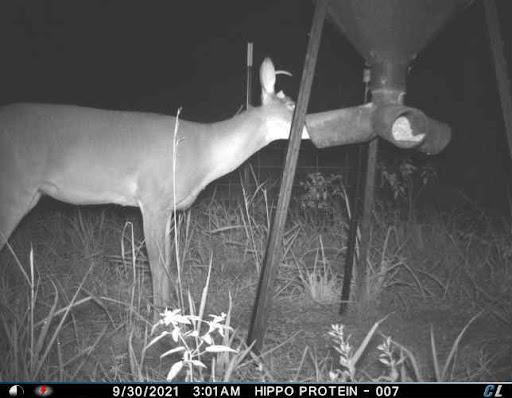Deer: (0, 51, 308, 349)
